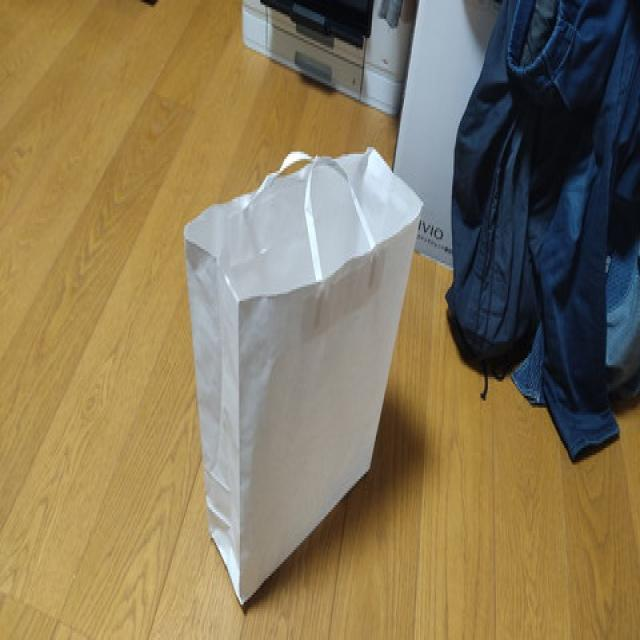paper bag: (185, 143, 423, 609)
